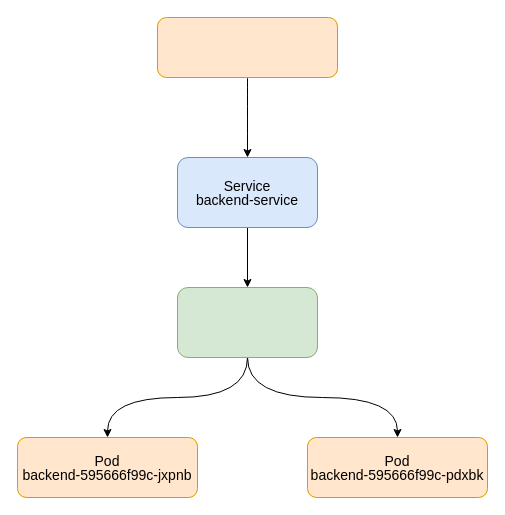
This 505x515 diagram has some shape labels left out. The box of each missing label's shape, as (x1, y1, x2, y2) in pixels:
Endpoint backend-service: (176, 286, 318, 358)
Pod frontend: (156, 16, 338, 78)
